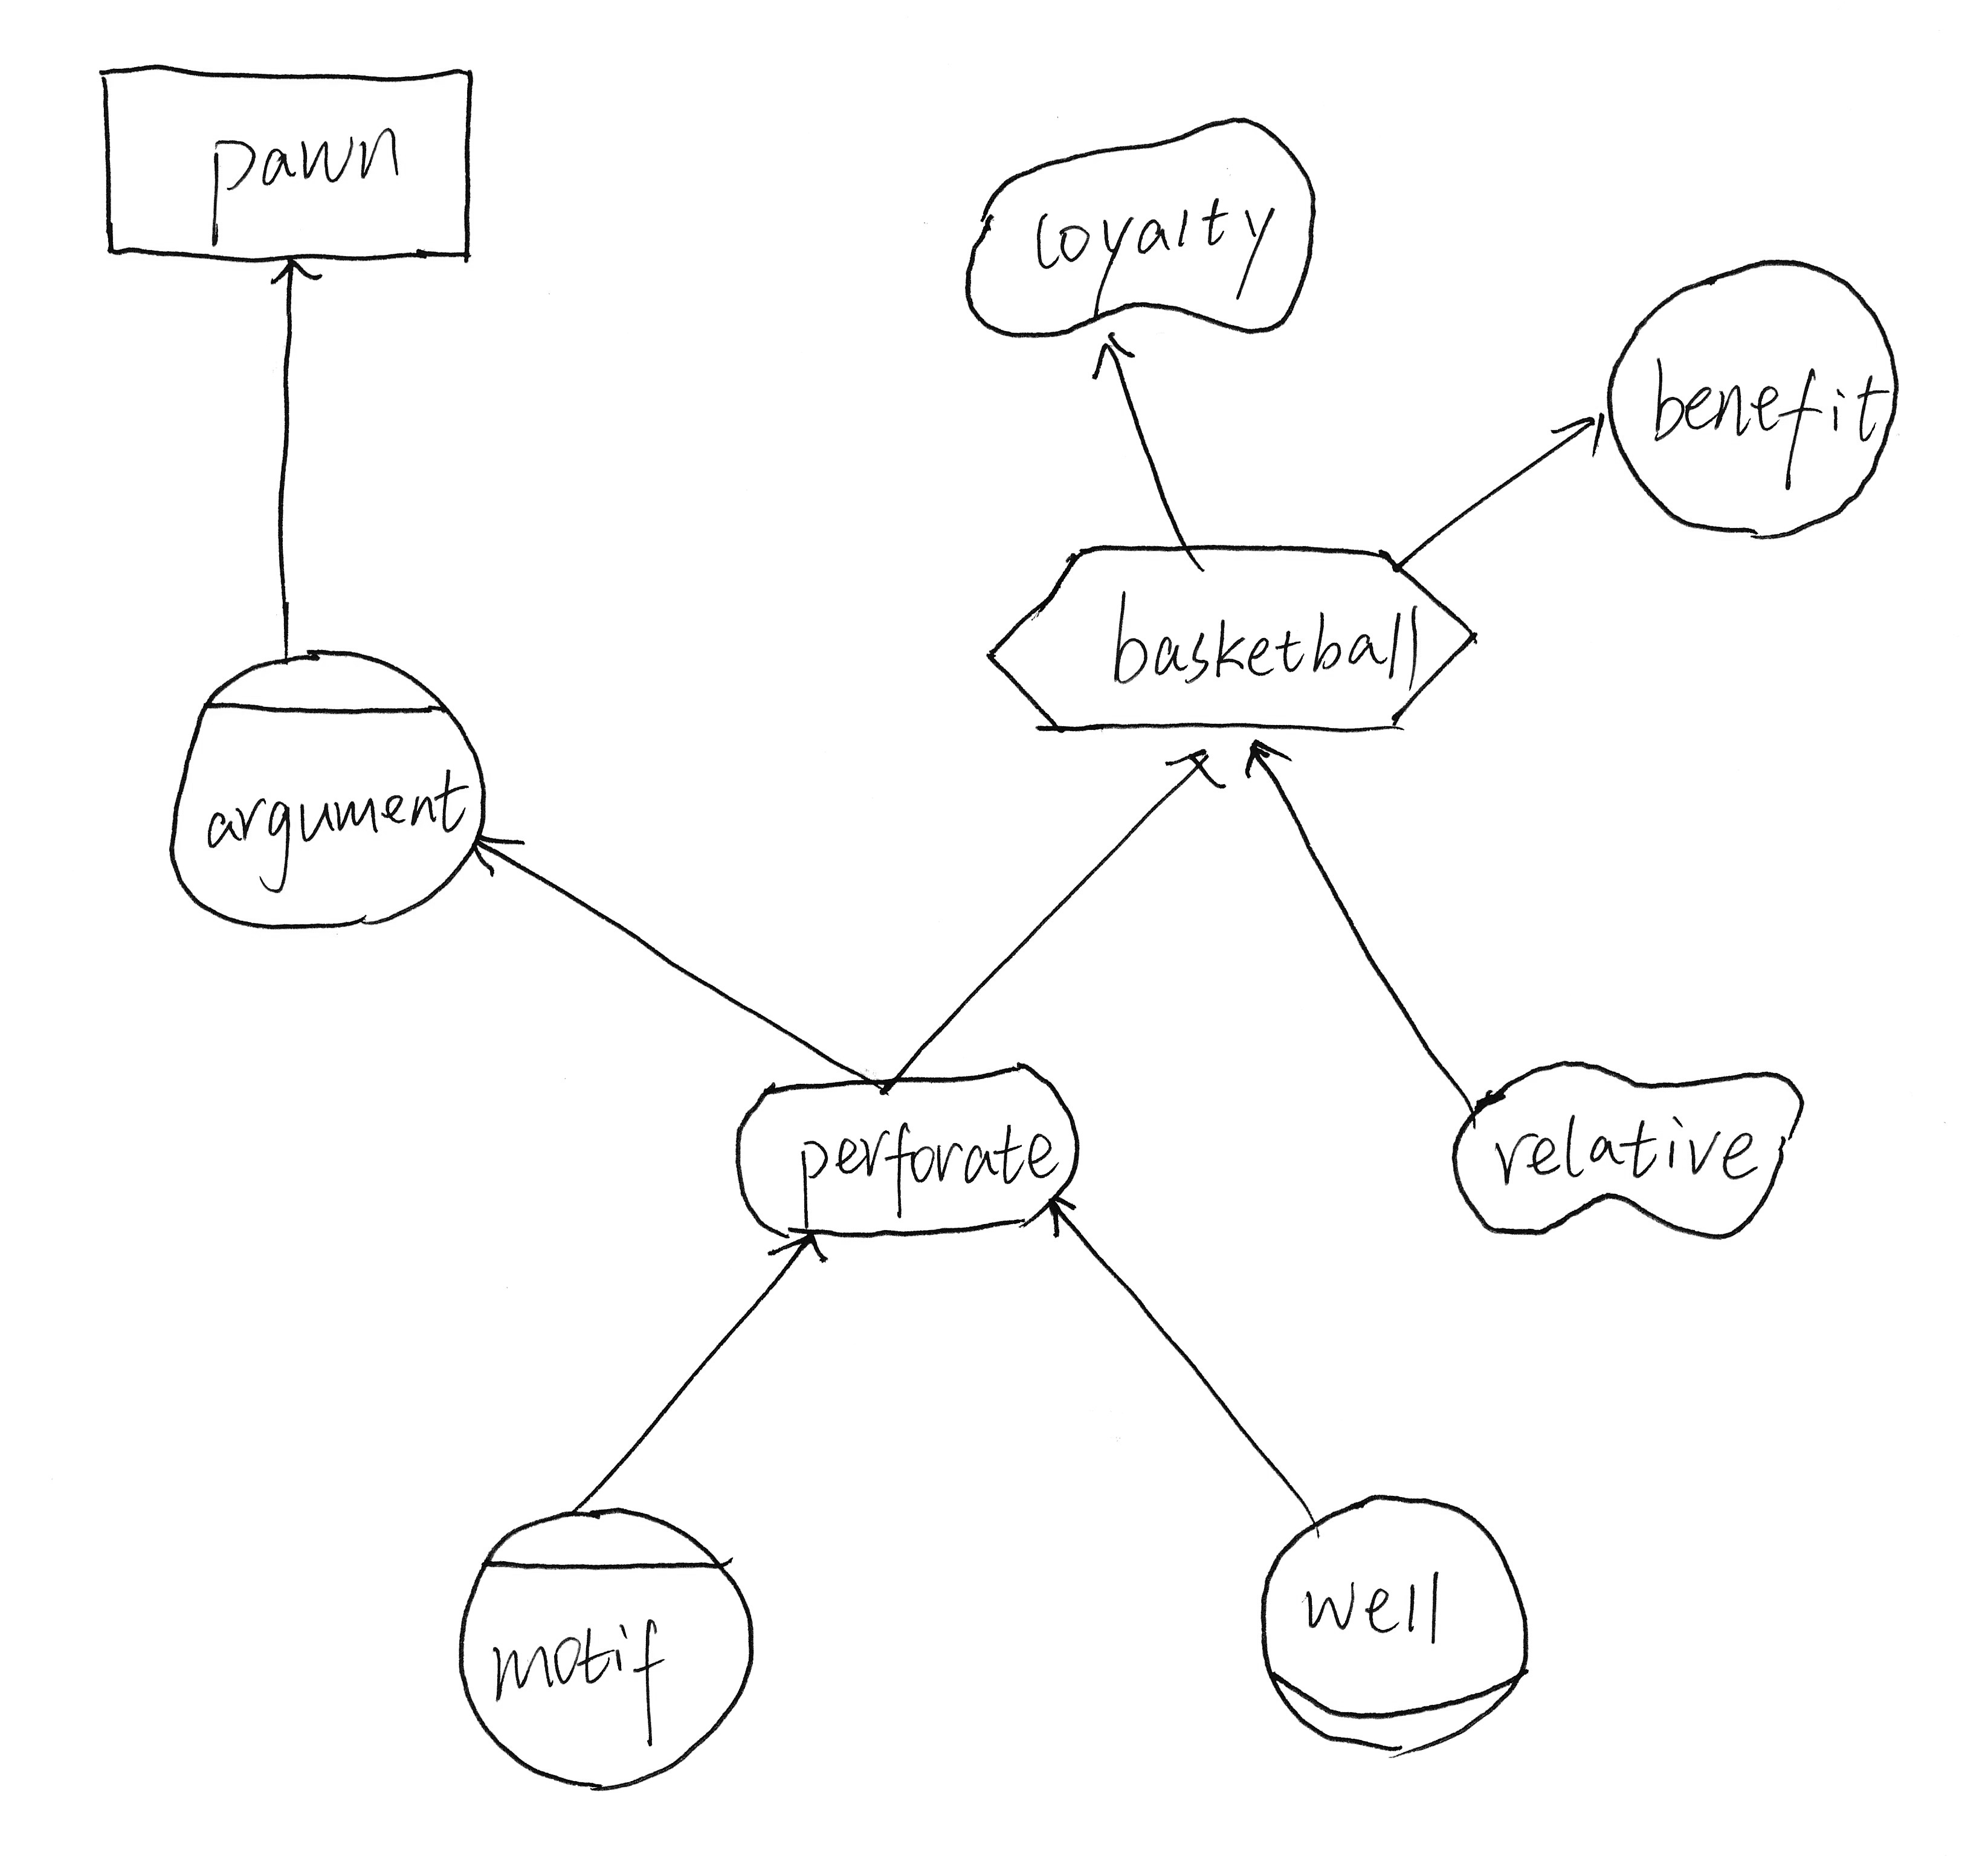actor: (1594, 237, 1913, 558)
agent: (146, 621, 506, 944), (436, 1490, 767, 1805)
arrow: (1158, 727, 1233, 811), (1074, 326, 1163, 389), (1231, 727, 1306, 801), (1545, 392, 1620, 462), (1036, 1176, 1099, 1251), (459, 822, 528, 884), (759, 1226, 842, 1279), (258, 242, 330, 302)
goal: (724, 1050, 1092, 1252)
quality: (942, 87, 1341, 352), (1437, 1036, 1828, 1265)
resource: (66, 37, 516, 277)
role: (1242, 1470, 1545, 1772)
task: (973, 527, 1489, 755)
